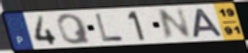1: (127, 10, 148, 42)
4: (33, 14, 59, 47)
A: (191, 8, 225, 39)
L: (94, 13, 126, 42)
N: (156, 7, 194, 42)
Q: (55, 13, 93, 46)
